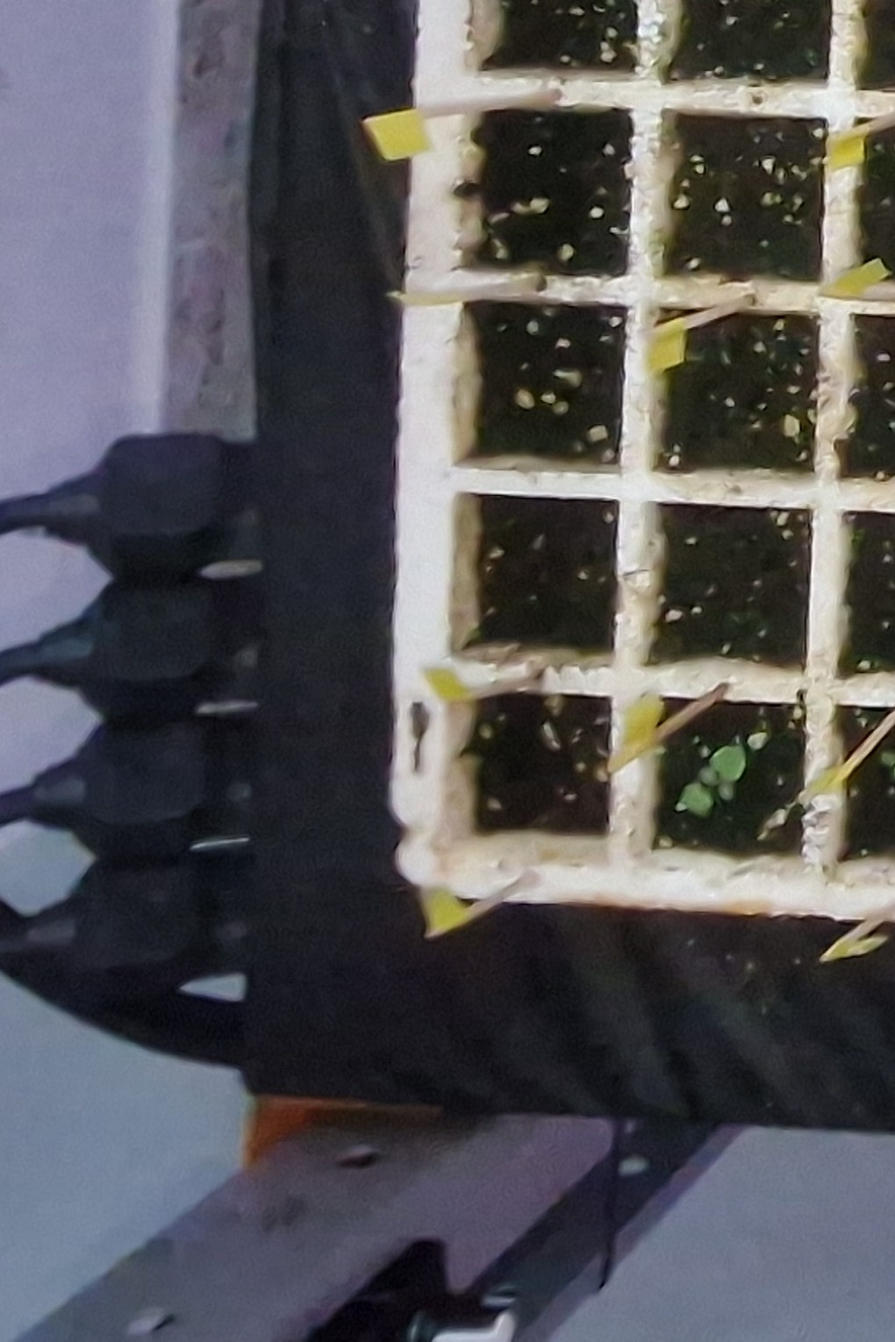Folha: (712, 747, 744, 780), (680, 784, 711, 816), (701, 767, 716, 784), (718, 784, 733, 800)
Germinacao: (680, 745, 745, 817)
